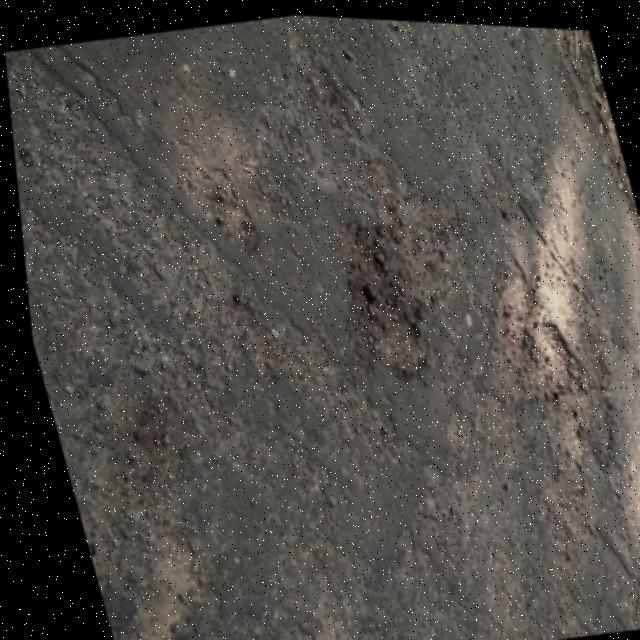Pothole: (312, 203, 438, 389), (466, 259, 580, 409), (189, 160, 261, 259)
